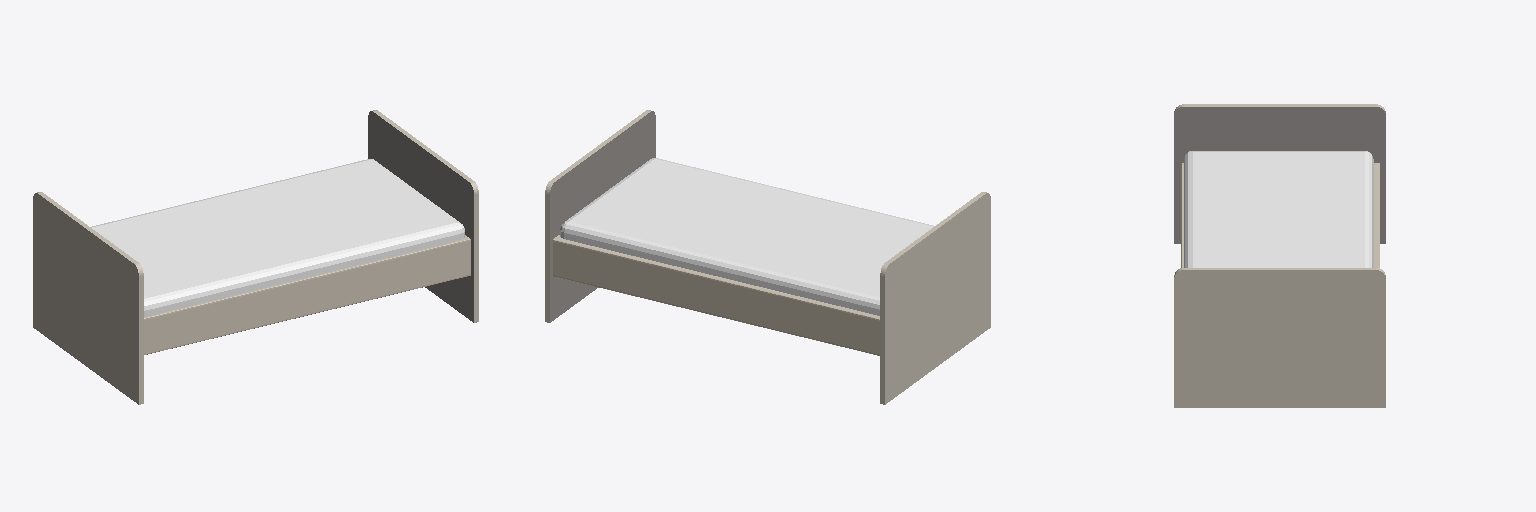
The model's file is 2pir_lozeczko2.obj.
The picture shows the model from 3 angles: view 1: azimuth 30°, elevation 25°; view 2: azimuth 150°, elevation 25°; view 3: azimuth 270°, elevation 25°; orthographic projection.
Parts seen in each view (by area): view 1: ChamferBox001, Rectangle058, Box005, Rectangle059; view 2: ChamferBox001, Rectangle058, Box005, Rectangle059; view 3: Rectangle059, ChamferBox001, Rectangle058, Box005.
Part boxes in pixels (x1,y1,x2,y2): ChamferBox001: (91, 159, 464, 316); Rectangle058: (33, 192, 143, 404); Box005: (144, 235, 470, 354); Rectangle059: (368, 110, 478, 322); ChamferBox001: (560, 158, 934, 315); Rectangle058: (880, 192, 990, 404); Box005: (553, 235, 879, 355); Rectangle059: (545, 110, 655, 322); Rectangle059: (1174, 268, 1385, 407); ChamferBox001: (1184, 151, 1373, 267); Rectangle058: (1174, 104, 1385, 243); Box005: (1181, 163, 1379, 267).
Size of the model in its own units: 142 by 54.91 by 76.5.